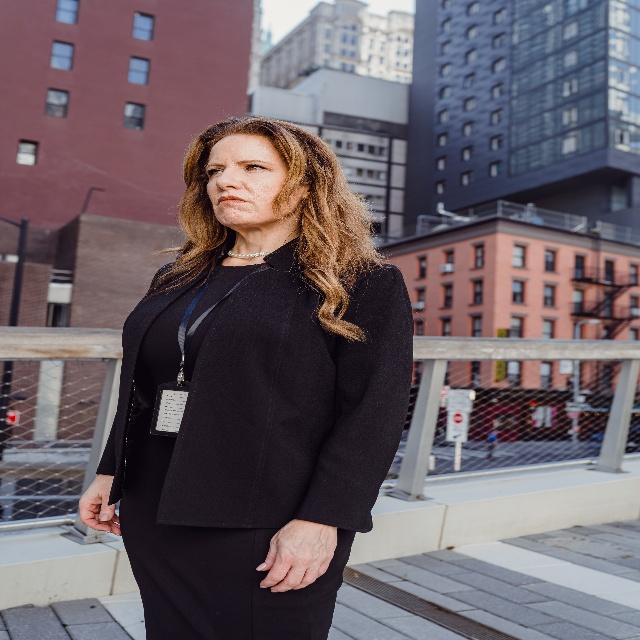Sin_guantes: (255, 517, 337, 594), (79, 475, 121, 536)
